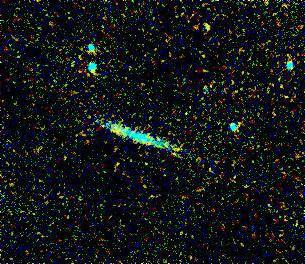star: (99, 114, 129, 144)
